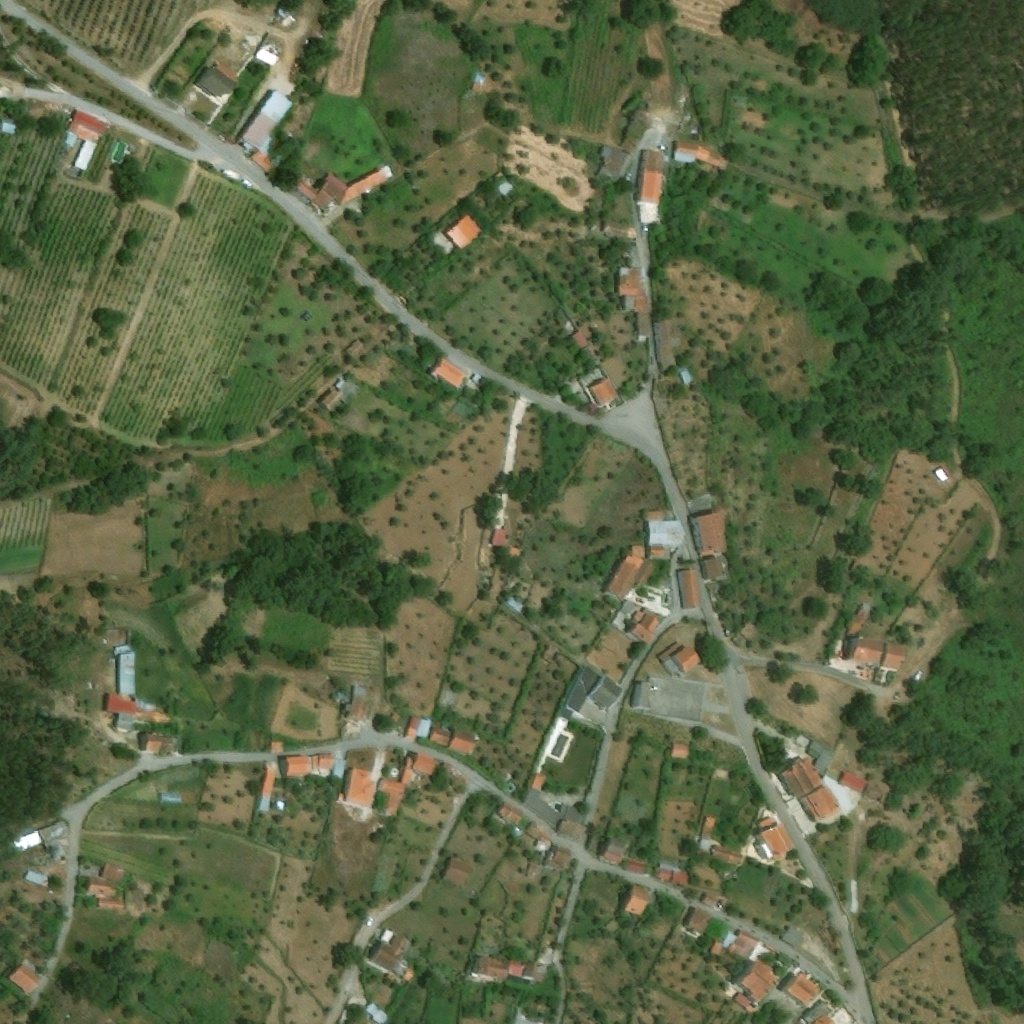0 no-damage: (285, 167, 389, 219), (234, 79, 297, 151), (631, 675, 711, 725), (519, 789, 588, 831), (600, 557, 658, 604), (617, 266, 651, 338), (250, 134, 300, 182), (470, 953, 548, 983), (775, 753, 823, 800), (639, 148, 667, 225), (736, 956, 782, 1002), (574, 365, 620, 411), (751, 817, 796, 863), (689, 510, 730, 558), (655, 640, 703, 679), (798, 784, 843, 823), (671, 140, 727, 170), (65, 110, 109, 146), (444, 213, 485, 251), (593, 144, 631, 185), (343, 766, 379, 808), (368, 948, 413, 981), (619, 882, 658, 920), (429, 356, 470, 392), (194, 64, 237, 98), (255, 759, 282, 811), (784, 971, 823, 1006), (644, 520, 689, 550), (378, 779, 410, 821), (588, 674, 625, 710), (8, 960, 46, 995), (720, 928, 760, 961), (114, 644, 138, 697), (804, 739, 834, 779), (845, 598, 873, 638), (555, 817, 590, 848), (682, 905, 714, 938), (676, 569, 700, 610), (10, 828, 45, 855), (426, 229, 456, 260), (854, 638, 886, 666), (346, 747, 381, 772), (447, 728, 477, 757), (600, 220, 637, 243), (797, 998, 831, 1023), (254, 36, 280, 68), (282, 755, 314, 780), (601, 837, 629, 865), (414, 749, 443, 776), (380, 935, 409, 962), (103, 692, 138, 714), (881, 643, 907, 672), (838, 770, 868, 795), (36, 820, 70, 842), (140, 731, 174, 753), (73, 140, 97, 171), (345, 685, 365, 720), (87, 877, 122, 896), (714, 846, 744, 867), (639, 612, 664, 637), (737, 618, 761, 644), (701, 557, 725, 583), (319, 391, 346, 413), (497, 804, 525, 825), (101, 861, 128, 882), (779, 926, 804, 947), (631, 626, 658, 645), (549, 848, 572, 870), (344, 340, 368, 361), (97, 894, 126, 911), (862, 783, 885, 804), (501, 595, 524, 616), (367, 1003, 391, 1023), (134, 697, 159, 716), (706, 938, 729, 958), (627, 545, 652, 563), (430, 727, 451, 748), (311, 754, 335, 772), (403, 756, 416, 789), (646, 546, 671, 563), (698, 840, 718, 861), (569, 329, 589, 350), (404, 716, 420, 742), (332, 760, 347, 787), (732, 991, 753, 1010), (677, 366, 696, 387), (23, 870, 47, 886), (700, 816, 716, 840), (495, 179, 516, 197), (540, 948, 560, 966), (0, 119, 18, 138), (670, 870, 689, 888), (531, 773, 549, 792), (116, 712, 134, 731), (653, 866, 673, 883), (331, 690, 352, 706), (628, 861, 650, 875), (671, 744, 690, 760), (161, 792, 184, 805), (419, 716, 431, 739), (631, 610, 648, 626), (813, 1012, 837, 1023), (380, 927, 395, 944), (516, 1015, 545, 1023), (505, 547, 521, 559), (389, 767, 402, 781), (276, 4, 288, 19), (272, 741, 286, 753), (430, 715, 442, 728), (313, 771, 332, 779), (334, 378, 347, 389)
4 un-classified: (891, 686, 912, 702), (312, 30, 324, 43), (896, 699, 908, 711), (855, 666, 876, 671), (0, 91, 13, 99)
